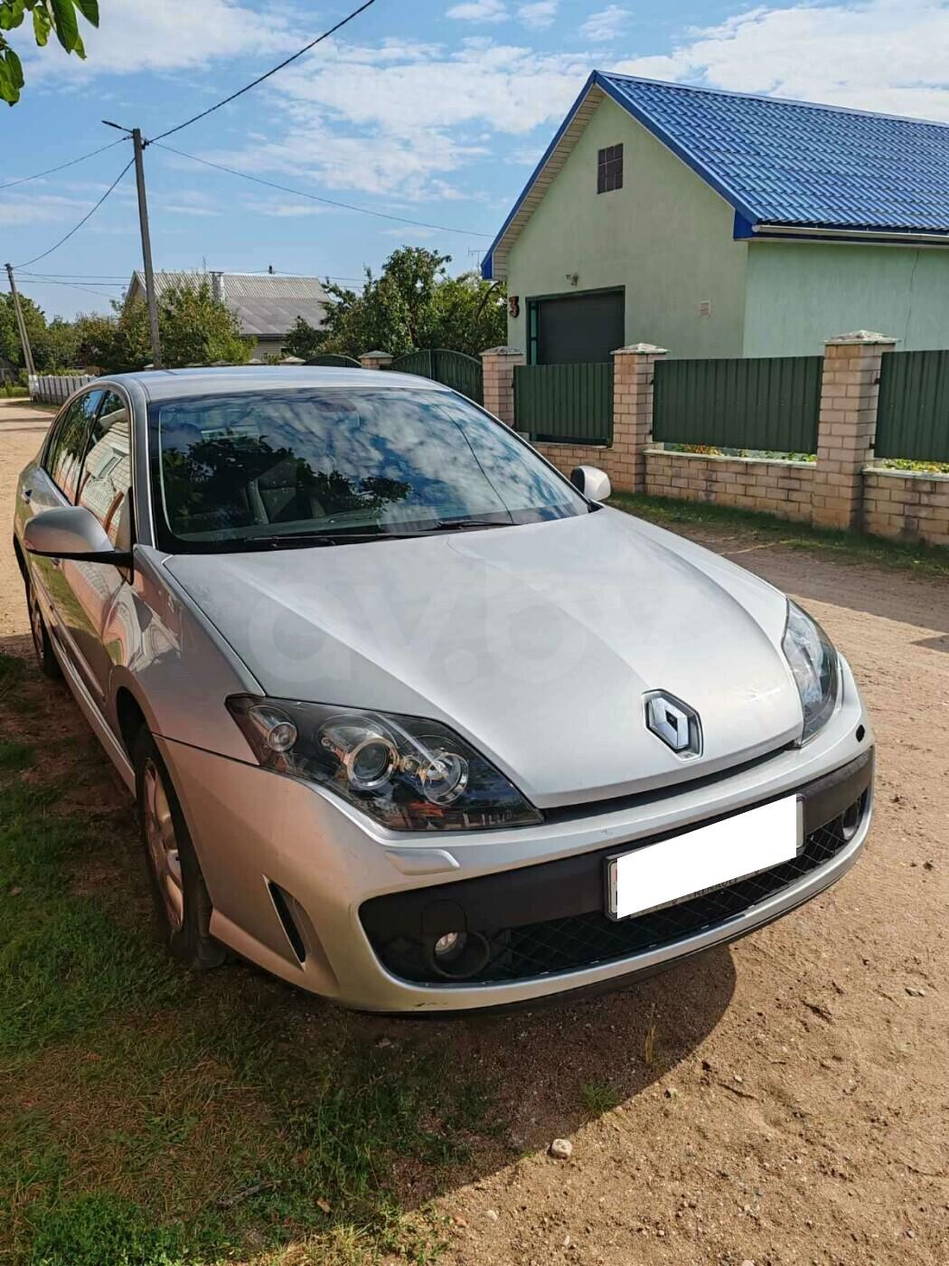Laguna_2007-2011: (12, 367, 875, 1016)
